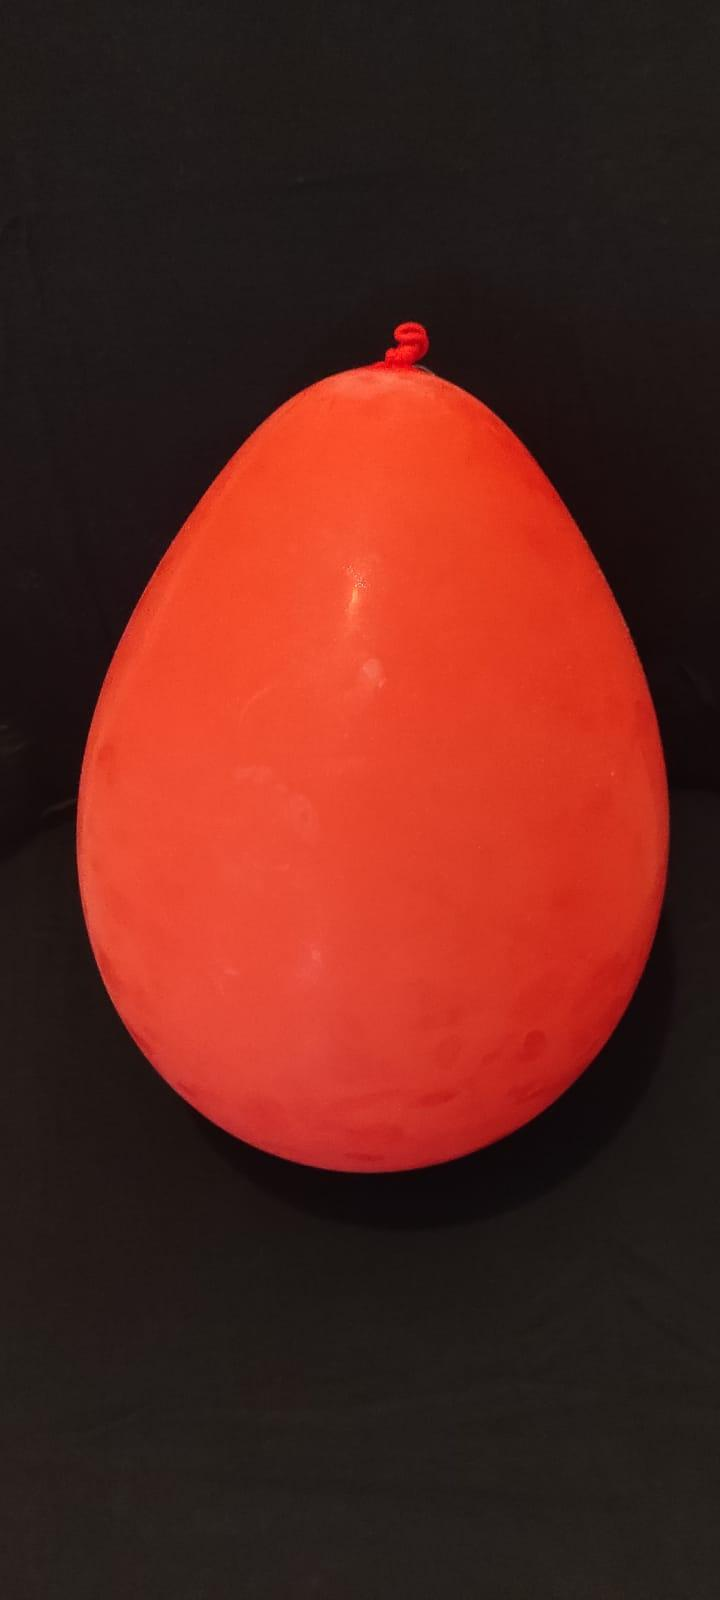red: (81, 317, 681, 1183)
